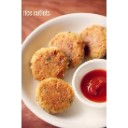cutlet: (36, 79, 73, 112), (50, 33, 85, 65), (31, 48, 67, 78), (82, 25, 106, 58)
